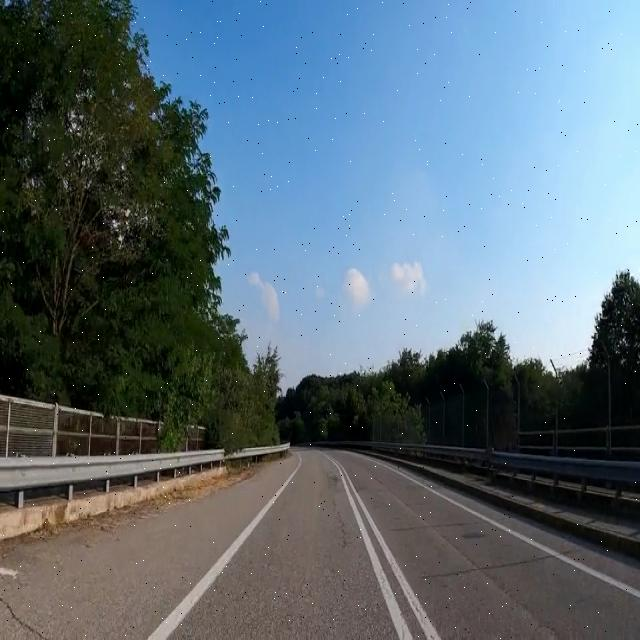lane: (149, 454, 301, 639), (343, 469, 440, 640), (329, 457, 413, 639)
